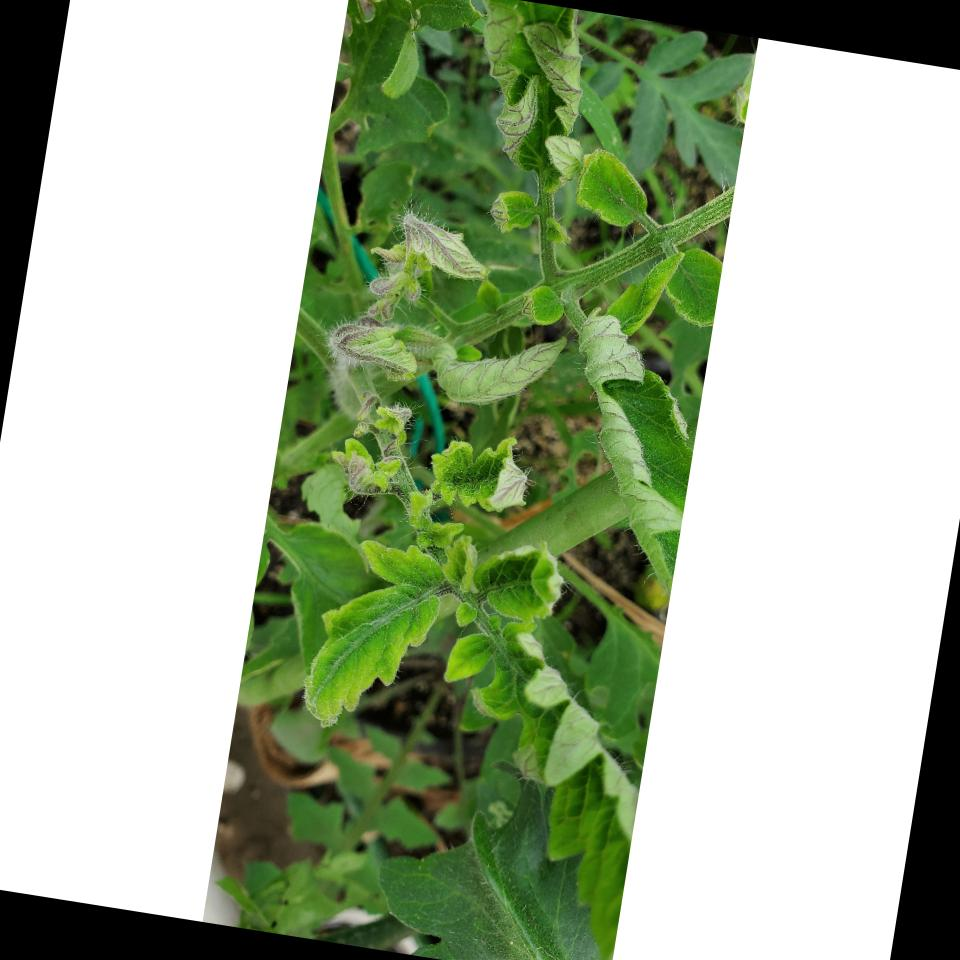tomato_yellow_leaf_curl_virus: (288, 552, 452, 752)
